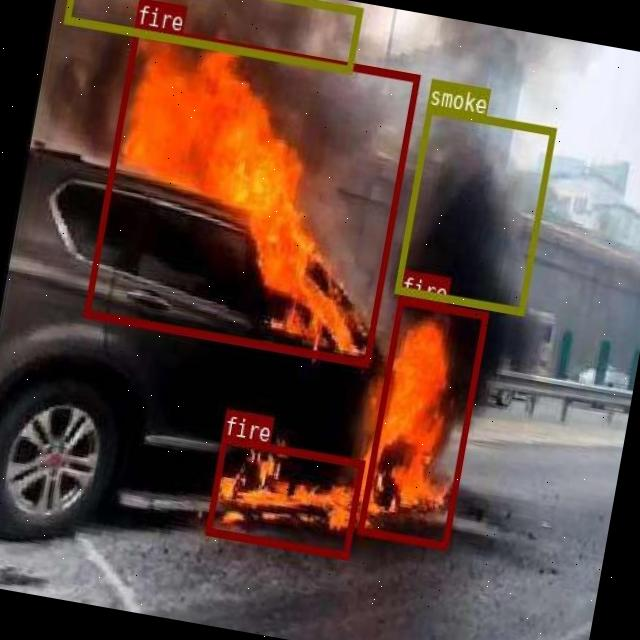fire: (82, 23, 418, 366), (356, 295, 487, 548), (204, 434, 364, 558)
smoke: (393, 104, 555, 314), (62, 0, 361, 71)
